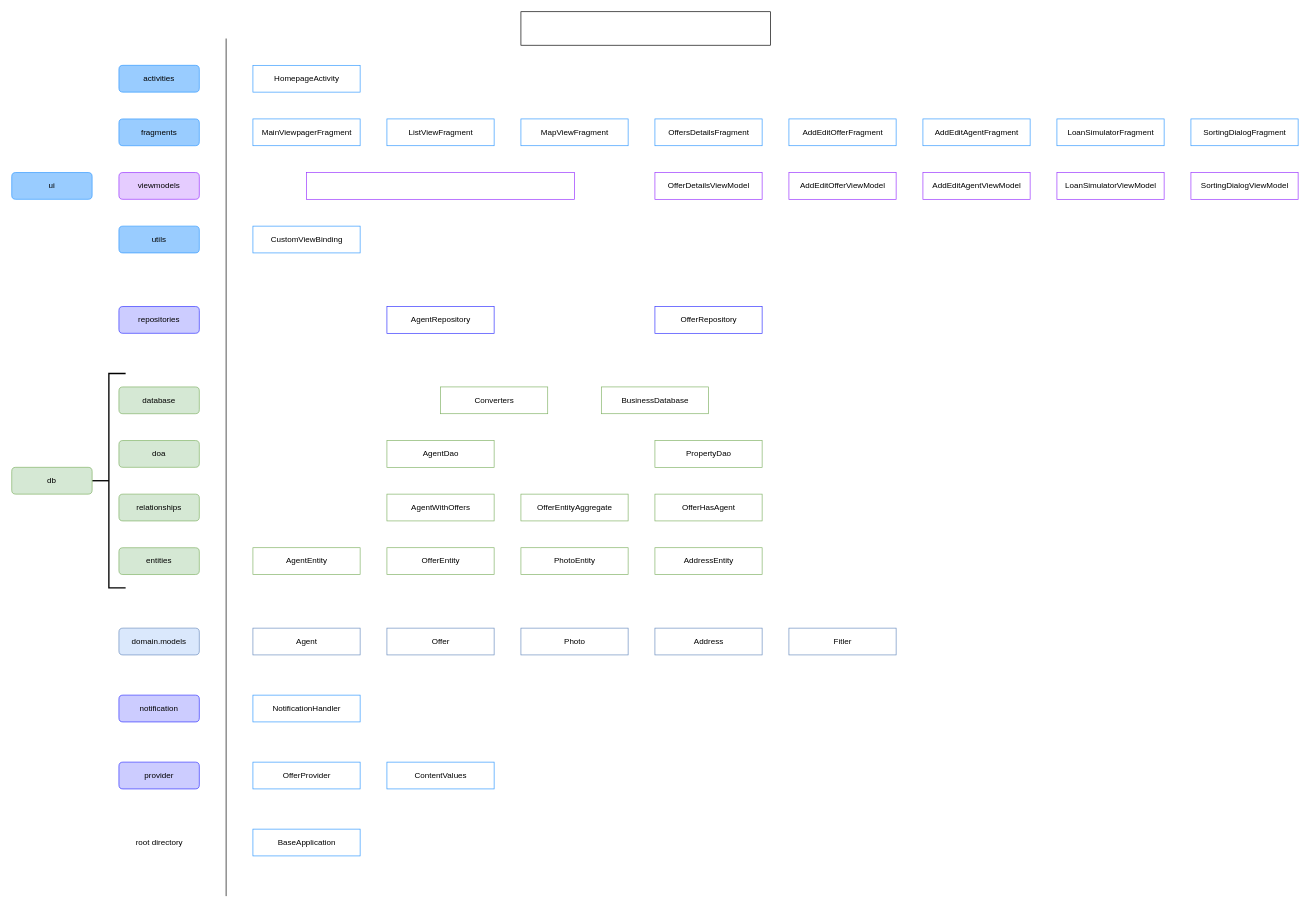
This 1310x909 diagram has some shape labels left out. Here are the shapes that lost their labels. From the top down, the centre of each, then its label:
At (645,28): "P9_RealEstateManager".
At (440,185): "HomepageModel".
